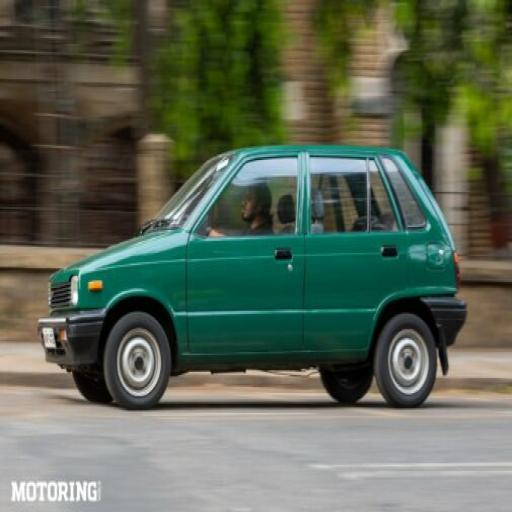License: (39, 323, 63, 352)
